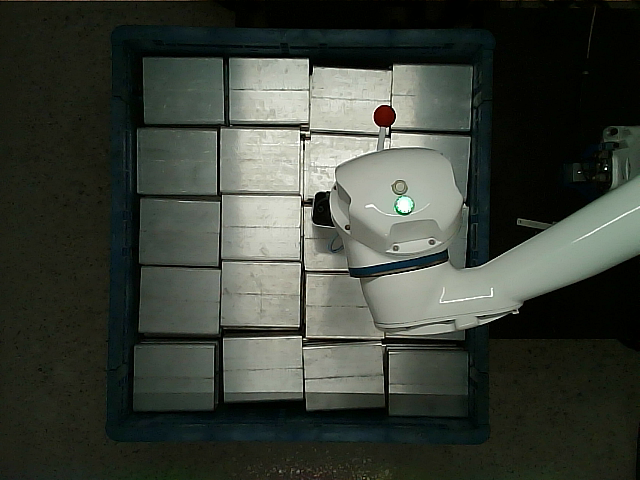green_light: (391, 195, 418, 214)
